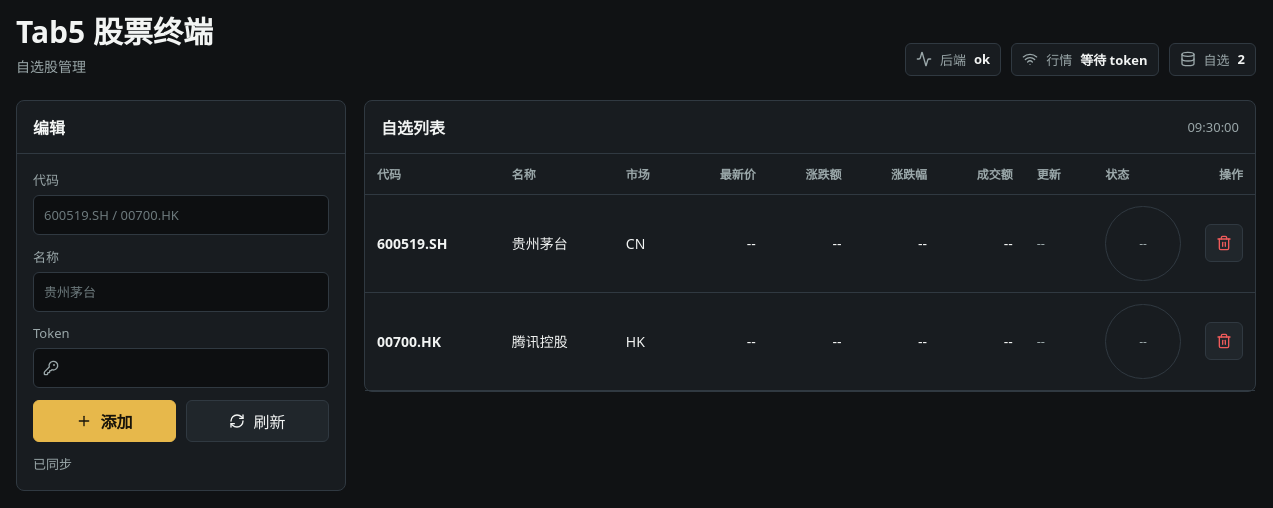
it: App › stores token input and sends it on admin mutations
Expected: the text "贵州茅台" is shown, [500, 194, 614, 292]
Type "secret" into the password field labelled "Token" at point(181, 368), box [33, 348, 329, 388]
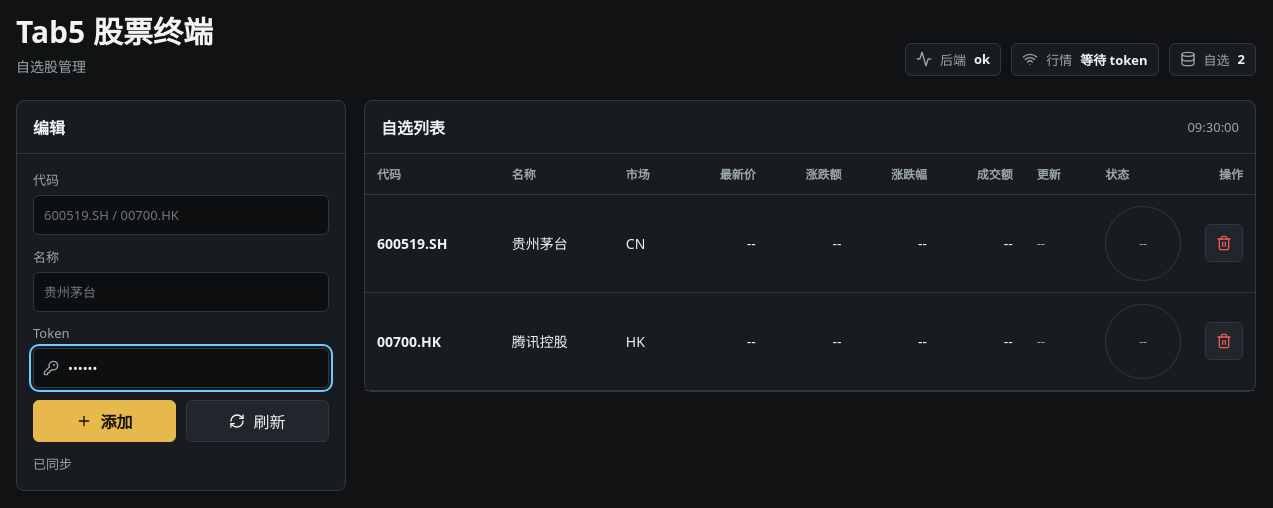
Type "09988.HK" into the field labelled "代码" at point(181, 214), box [33, 194, 329, 234]
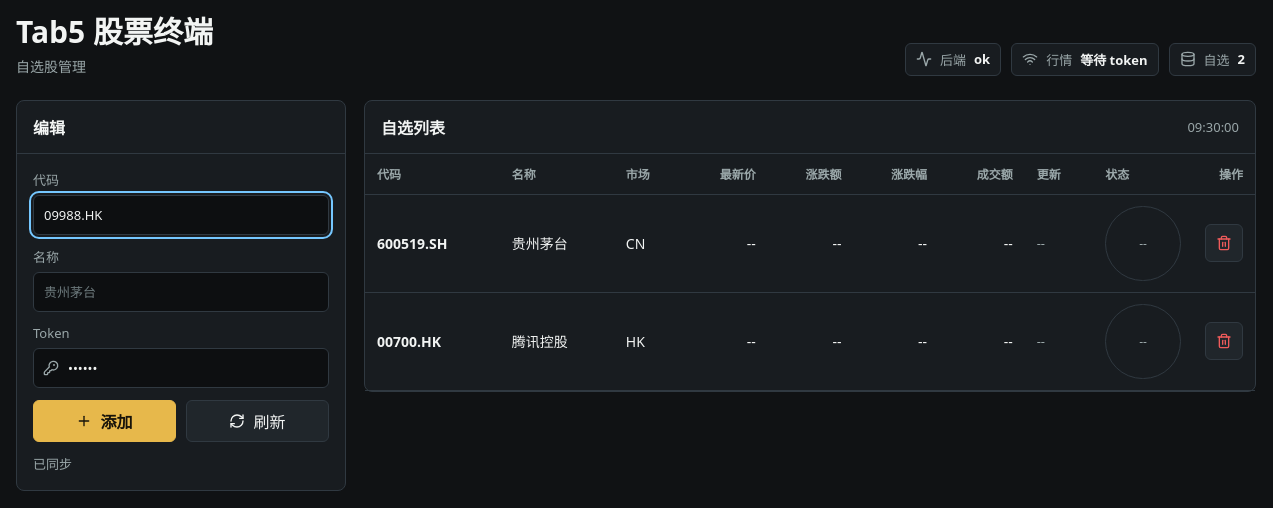
Type "阿里巴巴-W" into the field labelled "名称" at point(181, 292), box [33, 272, 329, 312]
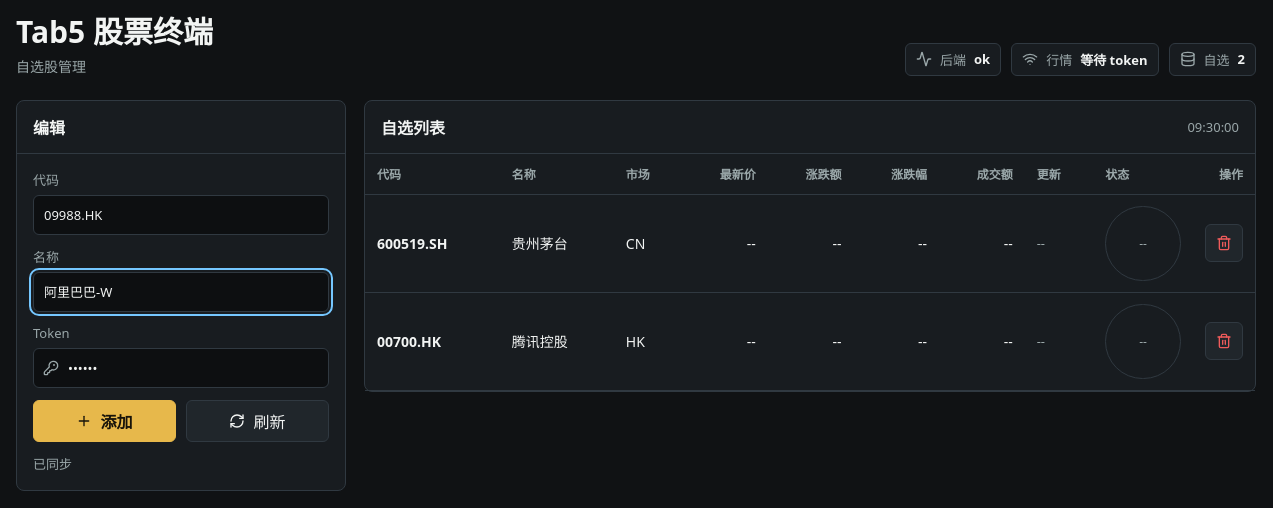
Click the button "添加" at point(104, 420), box [33, 400, 176, 442]
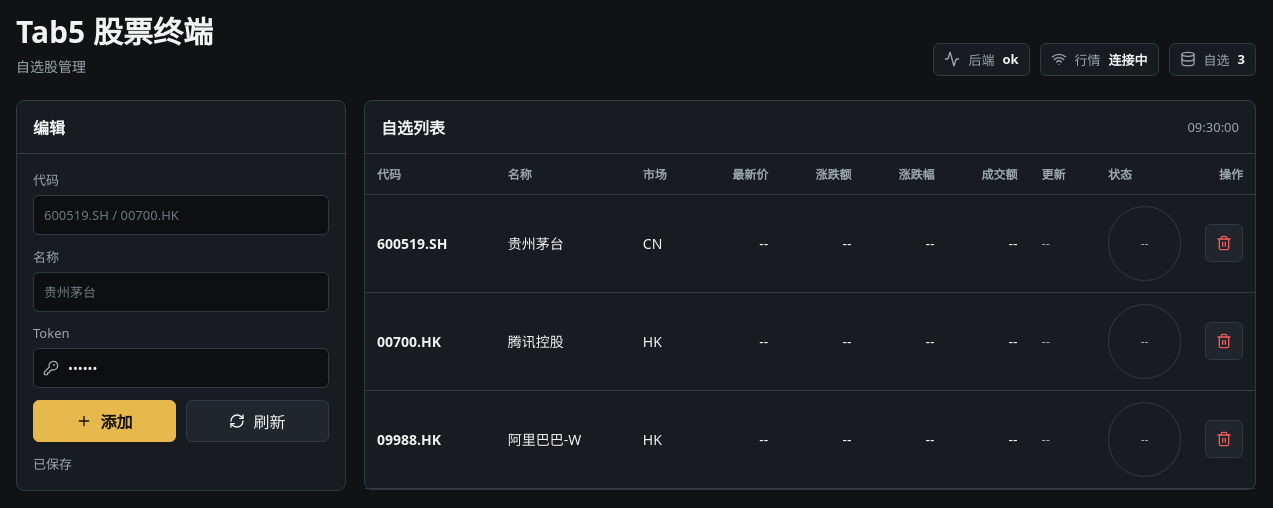
Now the text "阿里巴巴-W" is shown, box [496, 390, 631, 488]
